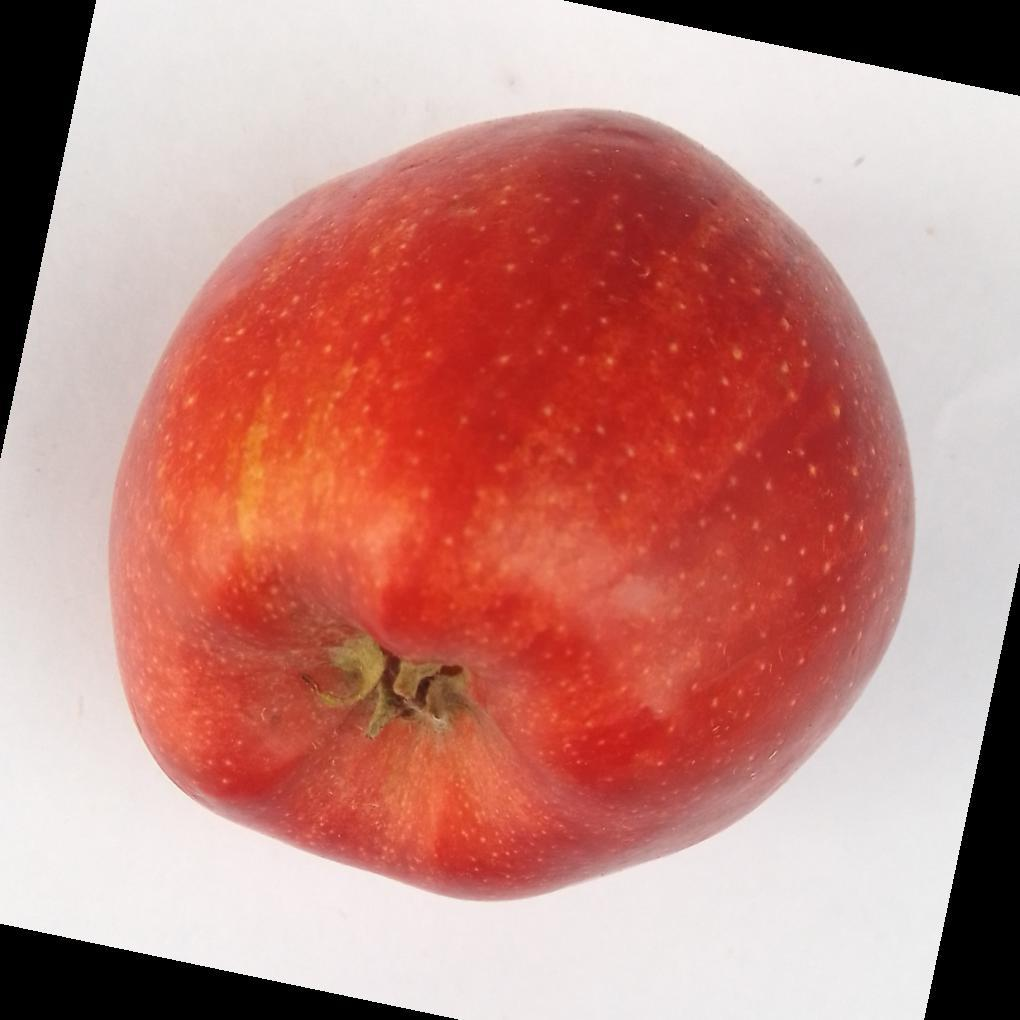FreshGuava: (104, 109, 915, 907)
